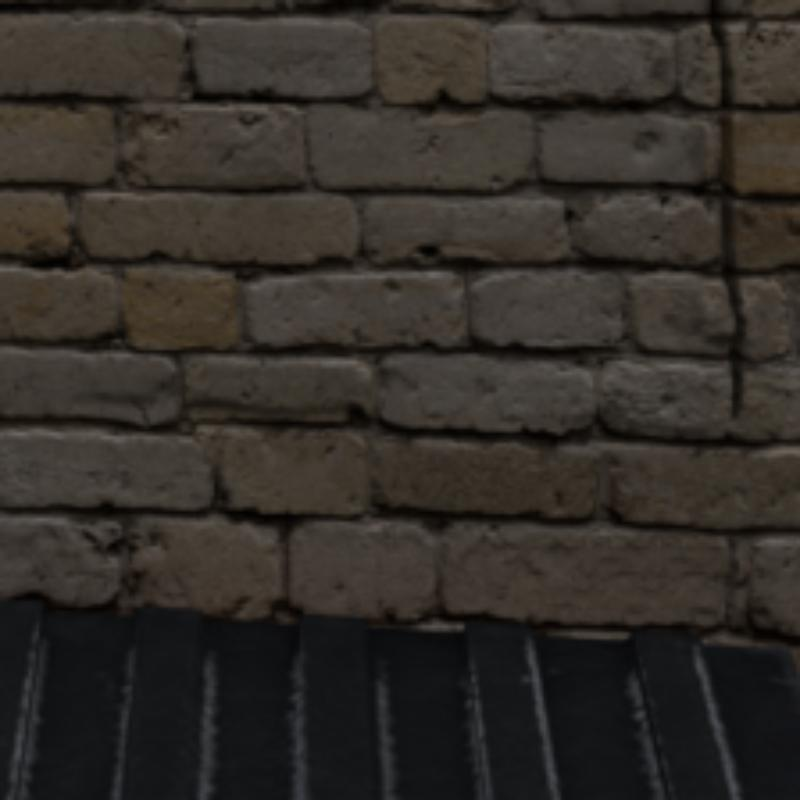pothole: (707, 0, 743, 418)
